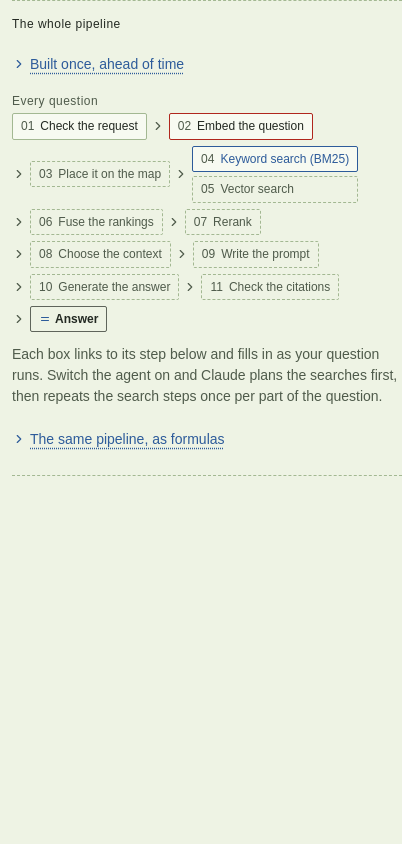
Scenario: pipeline diagram › draws every step in order, linked to its sheet, with BM25 and vector side by side
The image size is (402, 844).
Below lg the corpus build folds behind a pencil toggle, so the question's steps come first.
Click the button "Built once, ahead of time": {"x": 98, "y": 64} [12,44,184,84]
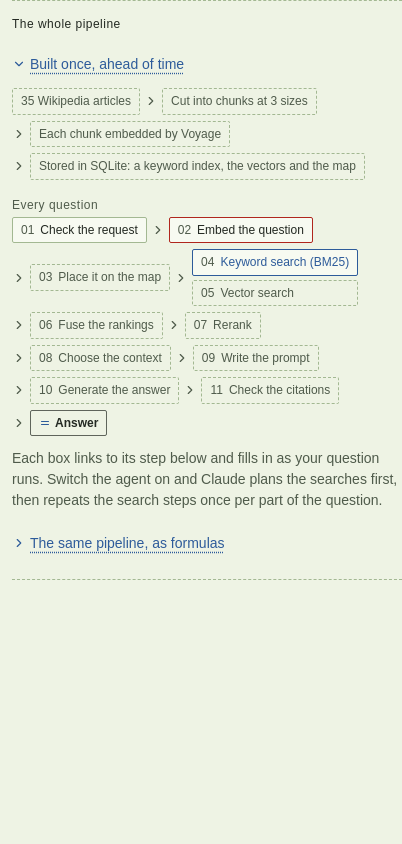
Expected: the text "Each box links to its step below and fills in as your question runs. Switch the agent on and Claude plans the searches f" is shown, [12,450,397,508]
Expected: the text "35 Wikipedia articles" is shown 2 times
